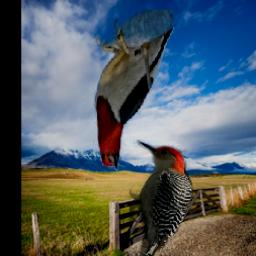Woodpecker: (92, 10, 179, 177), (129, 140, 194, 256)
